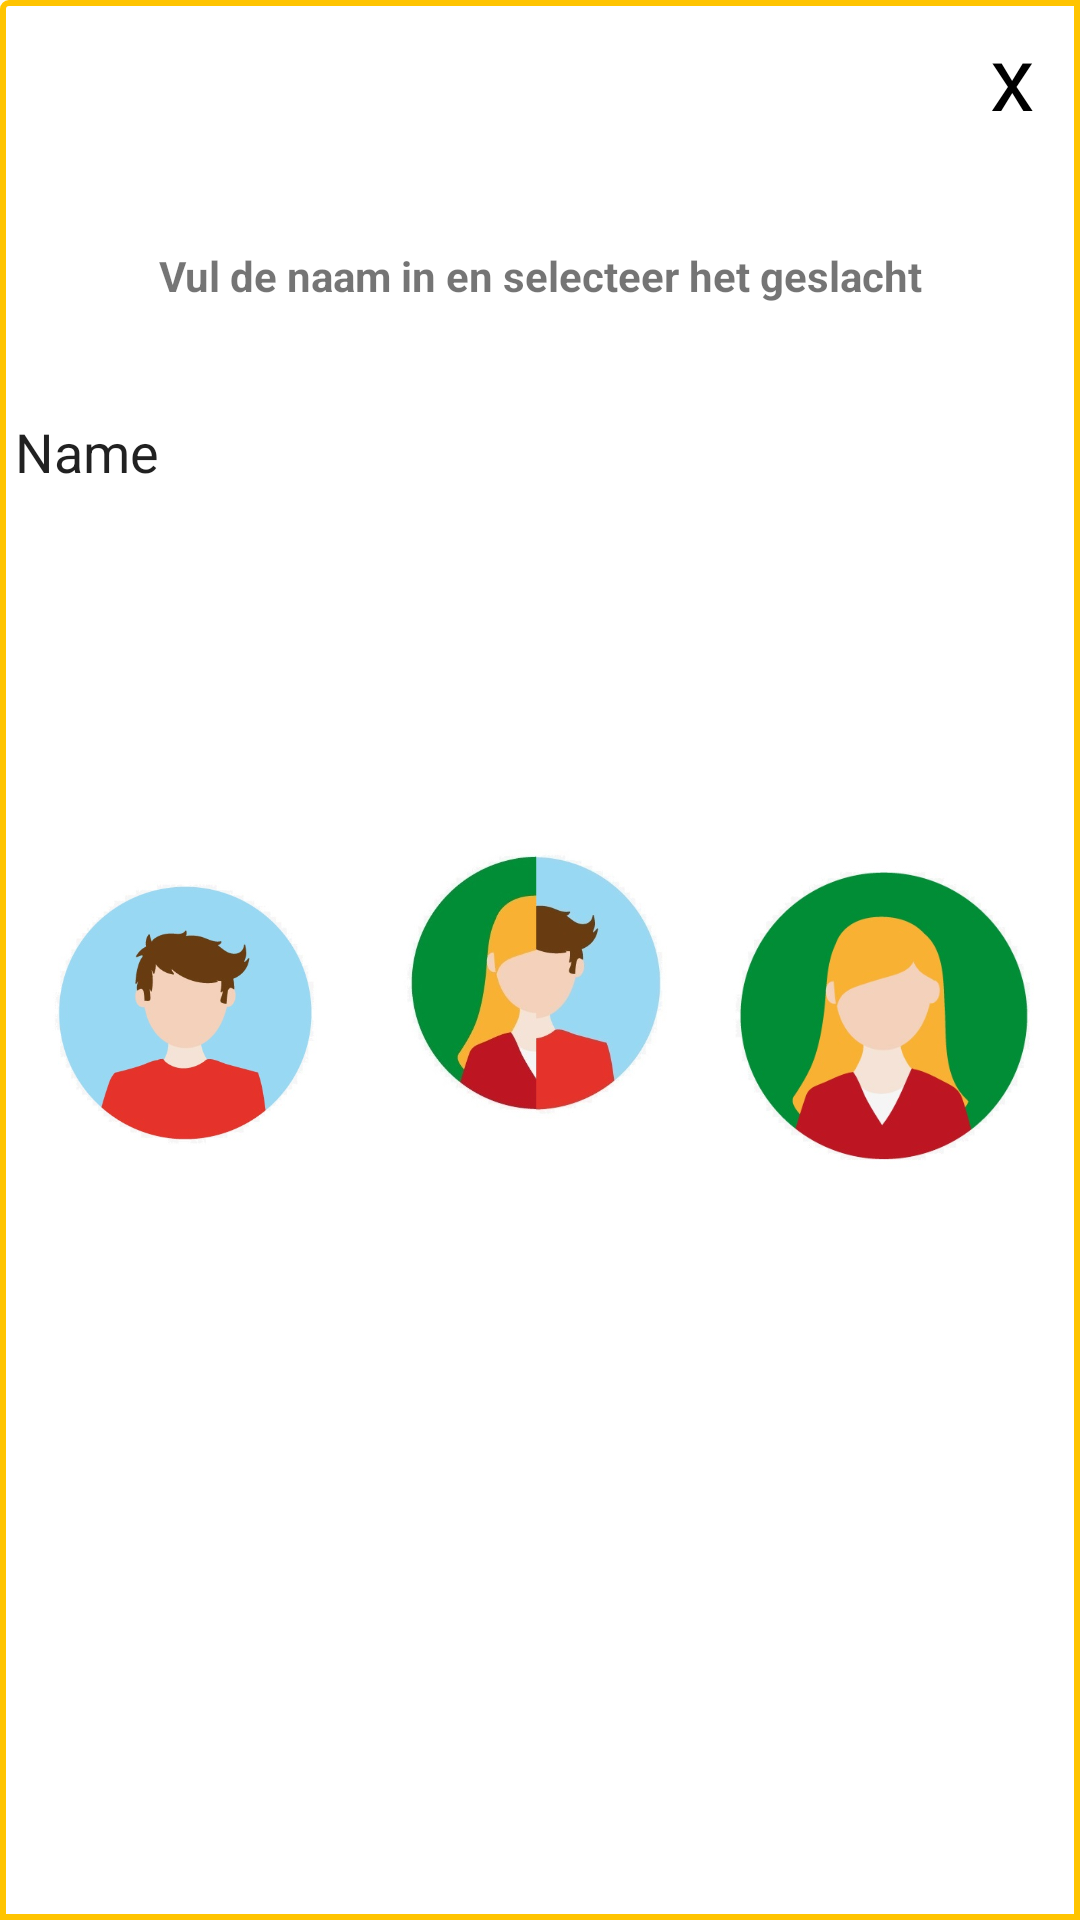

Locate icon controls on the screen. Image size 1080 × 1920, boxes as (x1, y1, x2, y2).
boy: (59, 886, 312, 1140)
girl: (740, 872, 1028, 1160)
xgender: (411, 856, 661, 1110)
